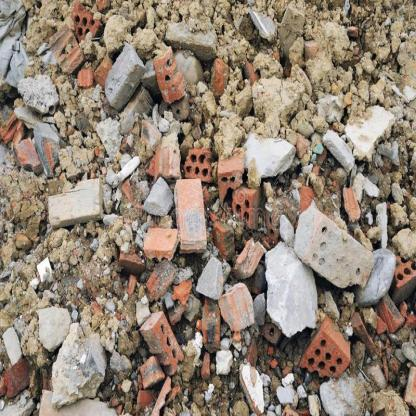brick: (118, 46, 282, 415), (292, 184, 415, 386), (45, 0, 114, 89), (1, 110, 47, 169), (167, 24, 217, 53), (3, 356, 34, 396), (209, 64, 232, 104), (400, 366, 415, 403), (240, 59, 262, 80)
